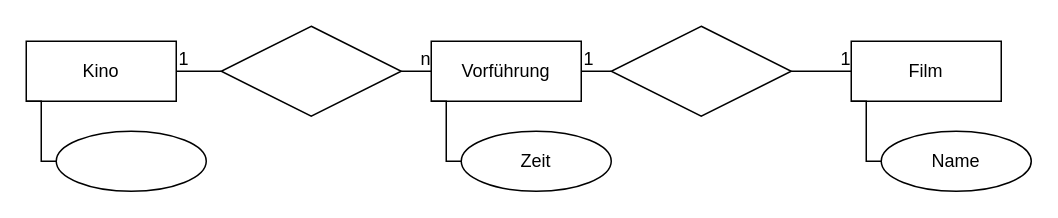
This 1058x218 diagram has some shape labels left out. The shapes that lost their labels are listed below. From the top down, each one's centre as x and y in pixels, then its label:
At point (310, 70): "hat".
At point (700, 70): "zeigt".
At point (130, 160): "Ort".
